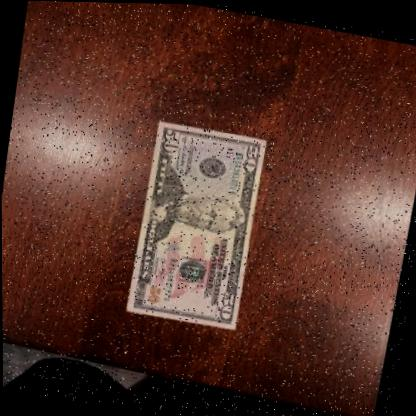fifty-front: (124, 117, 273, 331)
